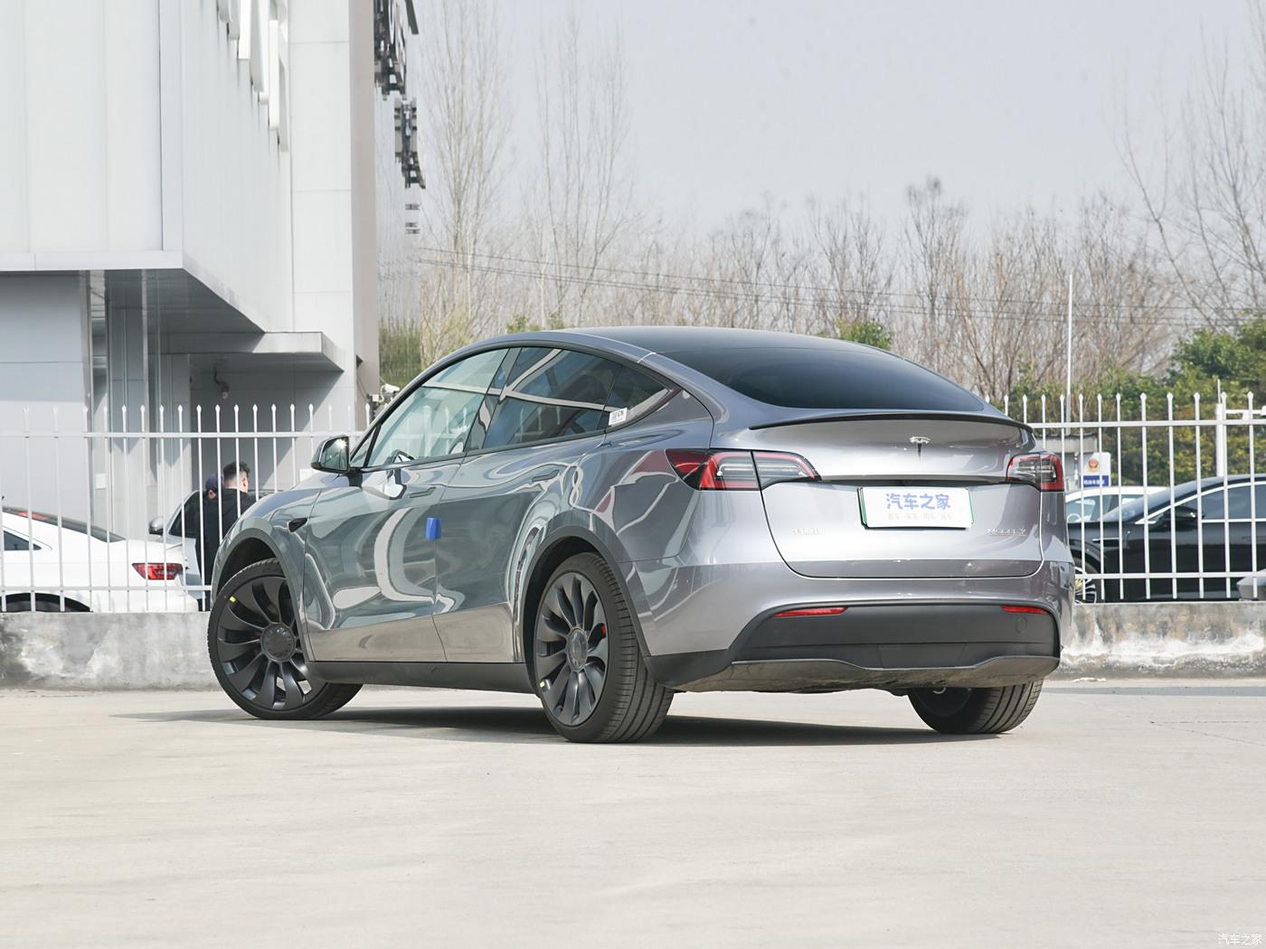Tesla: (910, 436, 931, 463)
